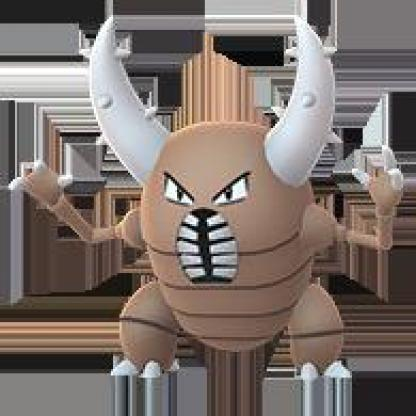Pinsir: (1, 1, 415, 415)
